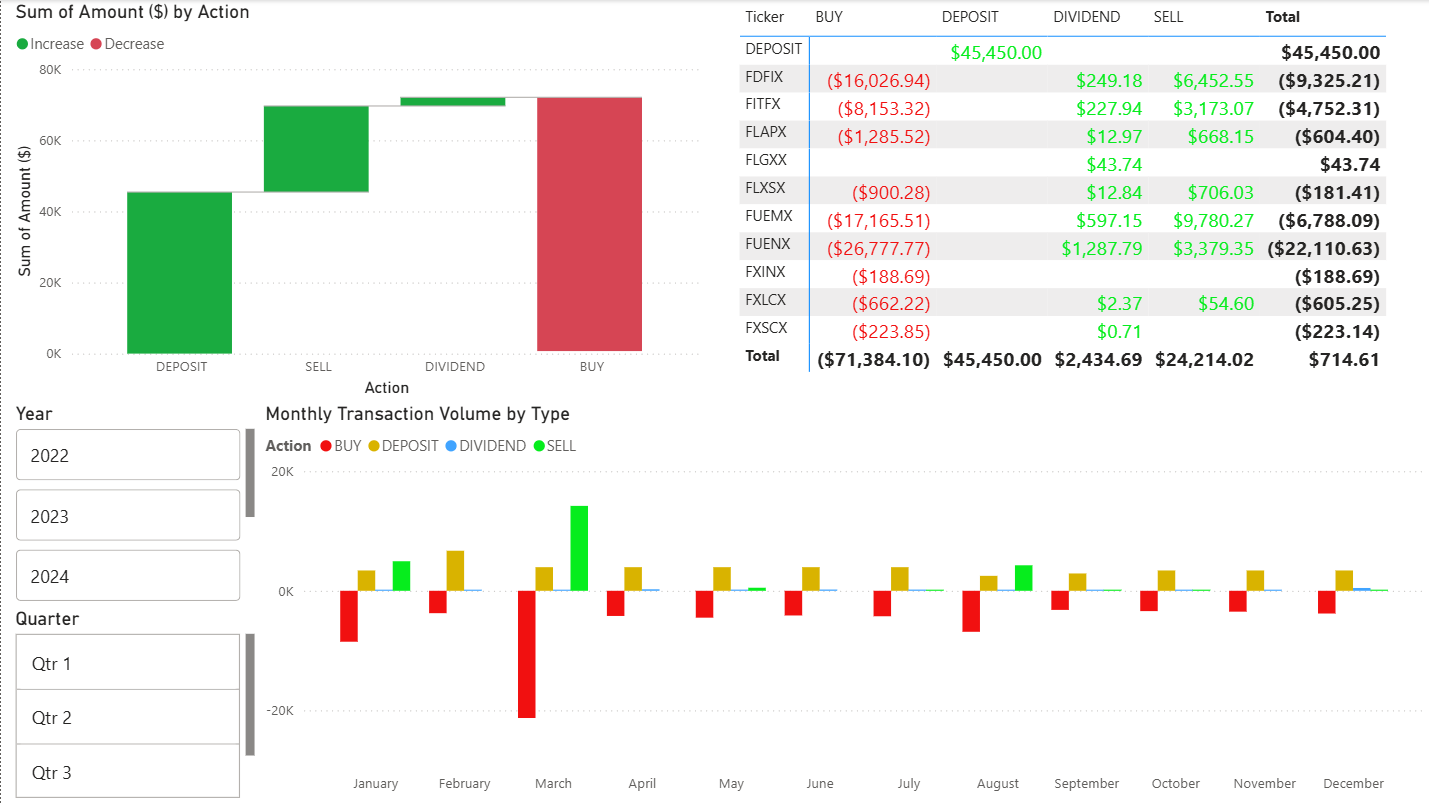

What the dashboard file says about the page in this screenshot:
{"tool":"powerbi","page":{"name":"Cash Flow & Transaction History","canvas":[1280,720],"ordinal":1},"visuals":[{"type":"waterfallChart","fields":{"Category":["Transactions.Action"],"Y":["Sum(Transactions.Amount ($))"]},"box":[8,0,624,360],"z":0},{"type":"pivotTable","fields":{"Rows":["Transactions.Ticker"],"Columns":["Transactions.Action"],"Values":["Total Transactions.Transaction Amount"]},"box":[656,0,624,360],"z":1000},{"type":"clusteredColumnChart","title":"Monthly Transaction Volume by Type","fields":{"Category":["Calendar.Date Range.Variation.Date Hierarchy.Month"],"Y":["Total Transactions.Transaction Amount"],"Series":["Total Transactions.Action"]},"box":[232,360,1048,360],"z":1001},{"type":"advancedSlicerVisual","fields":{"Values":["Calendar.Date Range.Variation.Date Hierarchy.Year"]},"box":[8,360,224,184],"z":1004},{"type":"advancedSlicerVisual","fields":{"Values":["Calendar.Date Range.Variation.Date Hierarchy.Quarter"]},"box":[8,544,224,176],"z":1005}]}

Visuals, with their boxes in screenshot pixels (x1, y1, x2, y2), scaled from the page's 1280x720 canvas onto the 1429x804 screenshot:
waterfallChart - Transactions.Action x Sum(Transactions.Amount ($)): [left=9, top=0, right=706, bottom=402]
pivotTable - Transactions.Ticker x Transactions.Action: [left=732, top=0, right=1428, bottom=402]
"Monthly Transaction Volume by Type" clusteredColumnChart: [left=259, top=402, right=1428, bottom=803]
advancedSlicerVisual - Calendar.Date Range.Variation.Date Hierarchy.Year: [left=9, top=402, right=259, bottom=607]
advancedSlicerVisual - Calendar.Date Range.Variation.Date Hierarchy.Quarter: [left=9, top=607, right=259, bottom=803]
